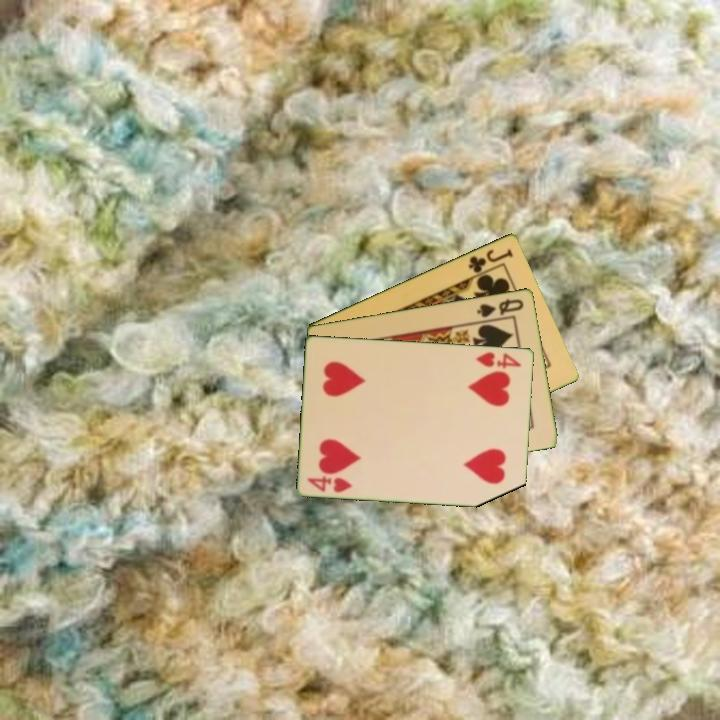4h: (473, 348, 525, 371), (303, 472, 355, 495)
Jc: (465, 245, 516, 276)
Qs: (474, 295, 527, 320)
